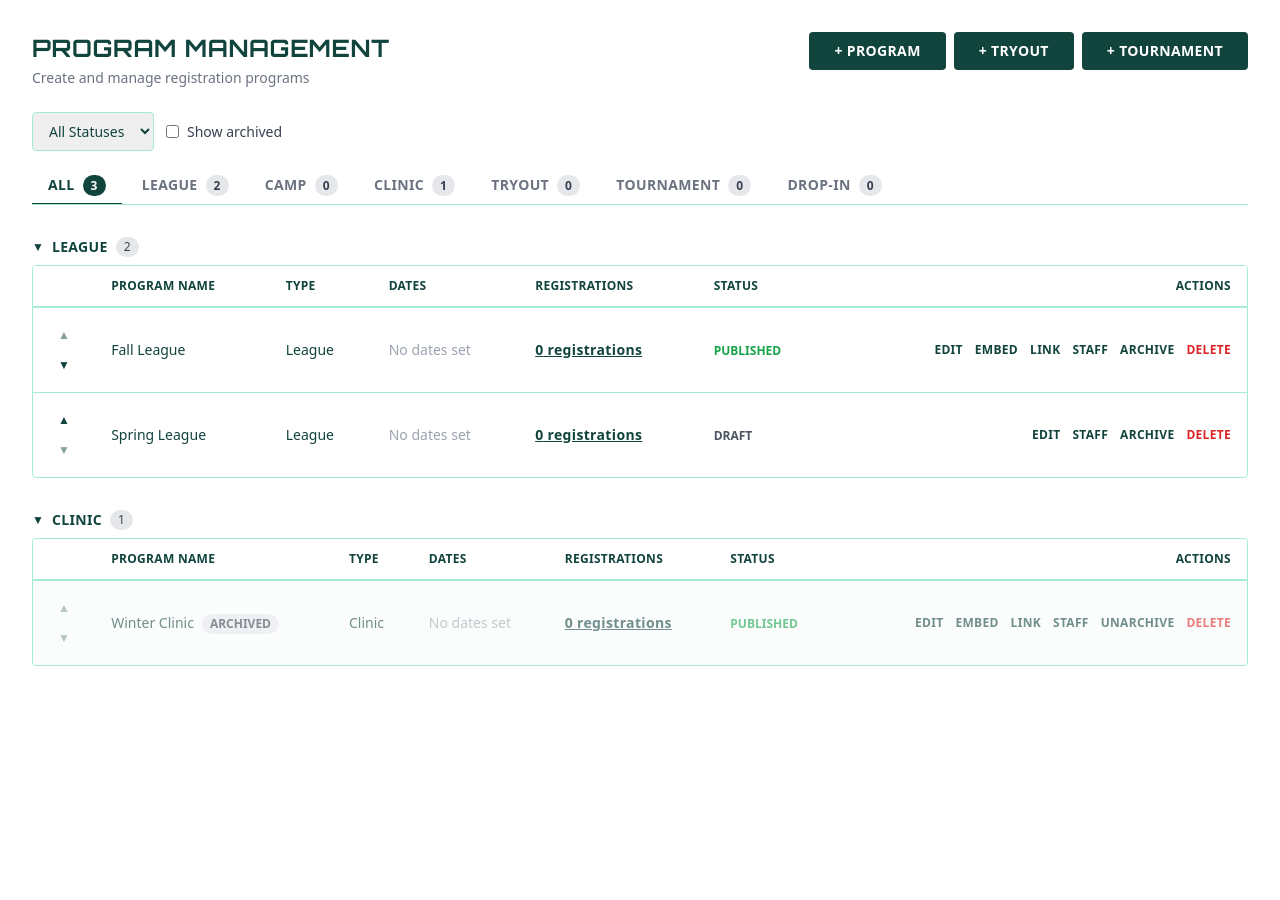
it: ProgramManagement grouping, collapse and archive › collapsing a section hides its programs and remembers the choice
The width and height of the screenshot is (1280, 900).
Expected: the text "Fall League" is shown, x1=111 y1=340 x2=185 y2=359
What coordinates should you click on to do the following:
click the button with test id "section-toggle-league"
I would click on:
 (80, 246)
Its box is x1=32 y1=229 x2=1248 y2=265.
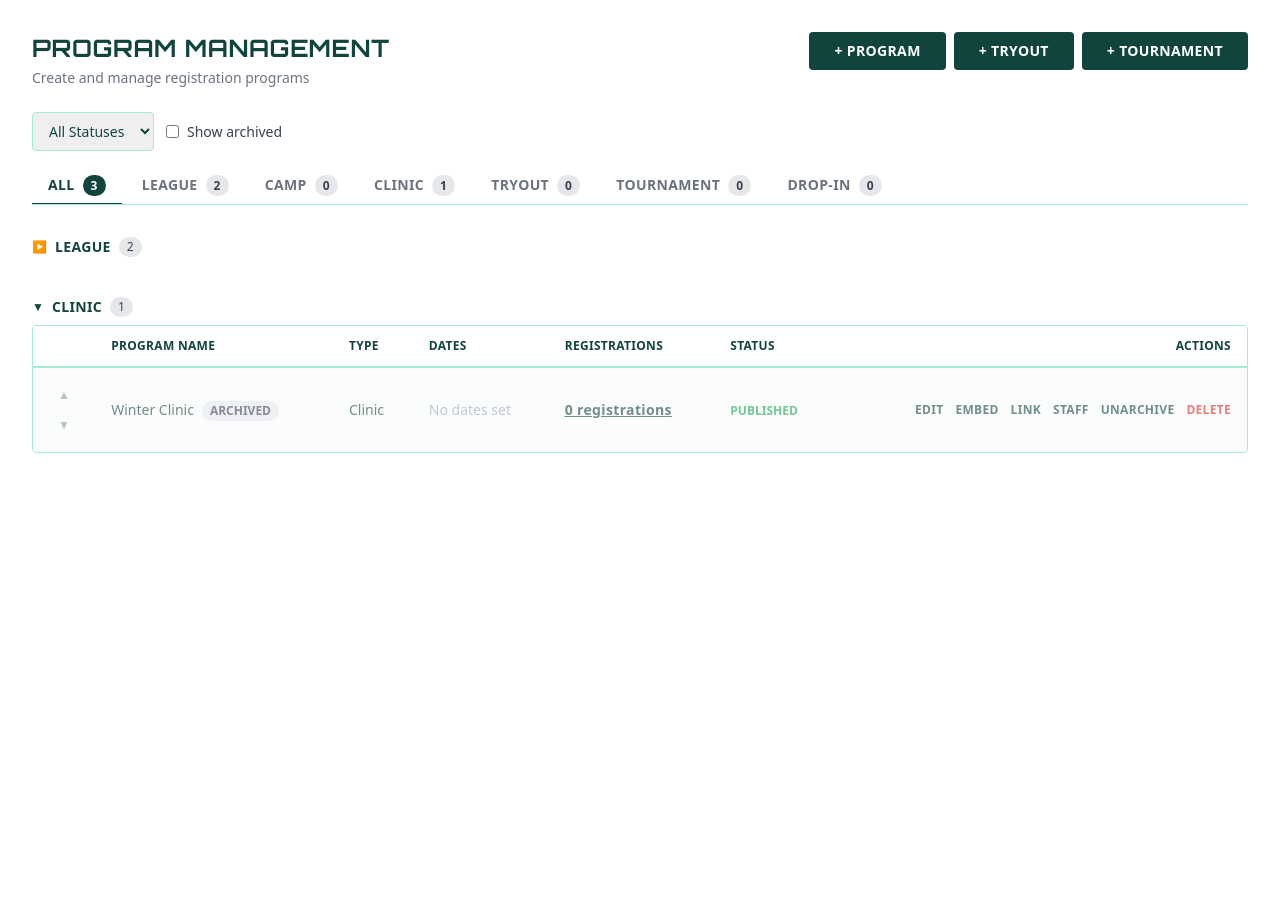
Expected: the text "Winter Clinic" is shown, x1=111 y1=400 x2=194 y2=418
Result: the text "Fall League" is not shown
Result: the button with test id "section-toggle-league" is collapsed at x1=32 y1=229 x2=1248 y2=265
